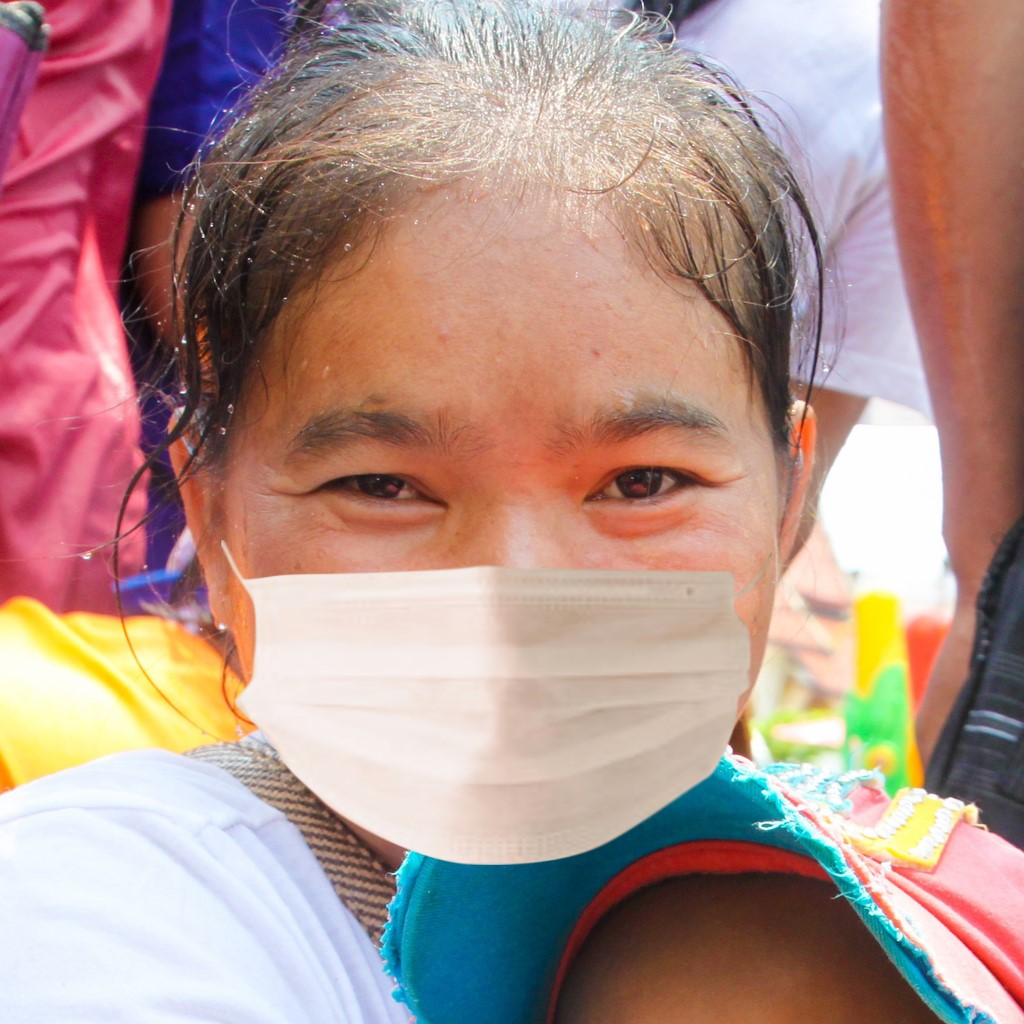con_mascara: (209, 142, 792, 863)
